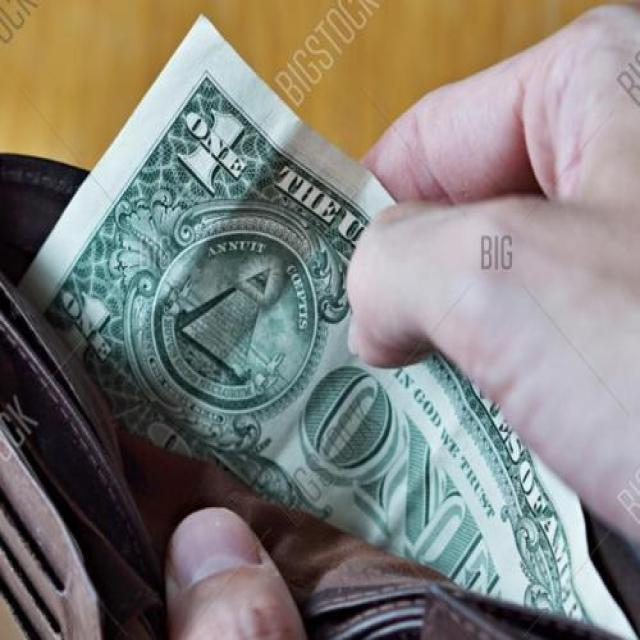1-Back: (13, 9, 640, 640)
